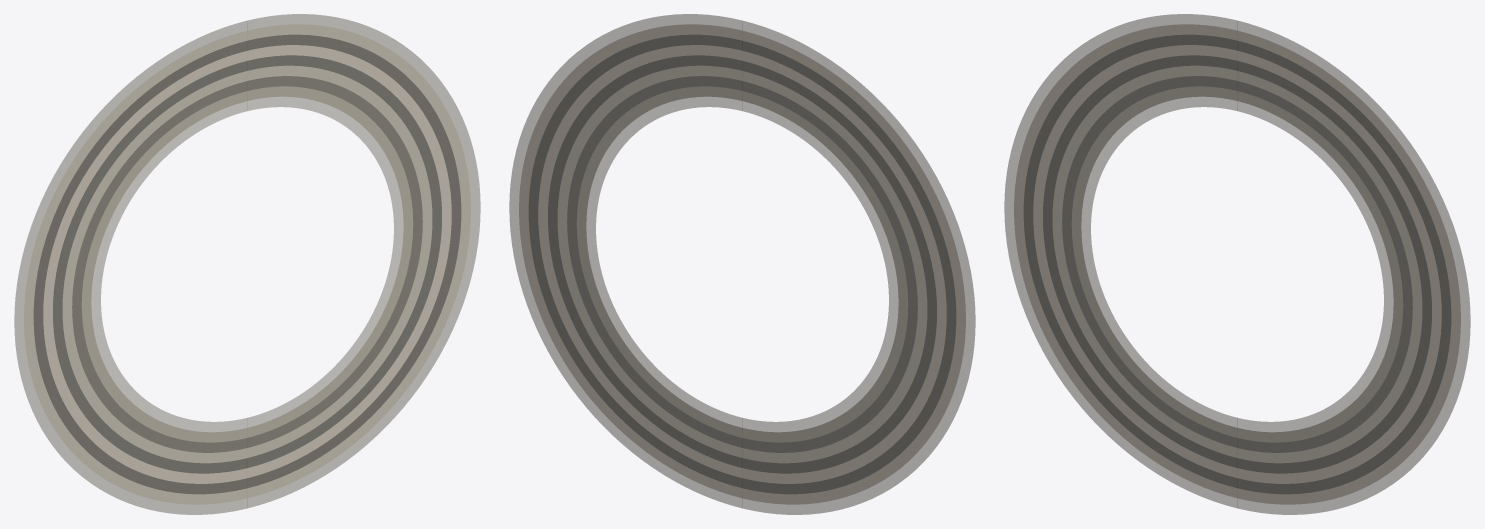
The model's file is ring.glb.
3 renders of one model, left to right at view 1: azimuth 30°, elevation 25°; view 2: azimuth 150°, elevation 25°; view 3: azimuth 330°, elevation 25°, orthographic.
Visible parts, largest first — view 1: Ring; view 2: Ring; view 3: Ring.
Boxes of the visible parts, x1=… form: Ring: x1=14, y1=14, x2=480, y2=514; Ring: x1=509, y1=14, x2=975, y2=514; Ring: x1=1004, y1=14, x2=1470, y2=514.
Bounding box in the file's own units: 4.6 × 4.6 × 0.
